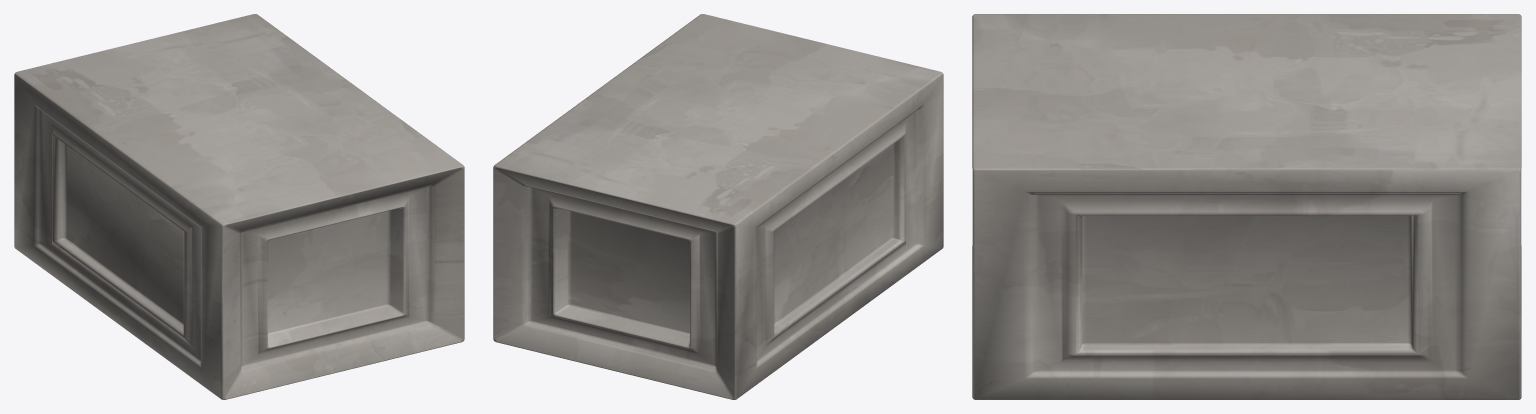
The model's file is Goddess Platform.fbx.
The picture shows the model from 3 angles, left to right: view 1: azimuth 30°, elevation 25°; view 2: azimuth 150°, elevation 25°; view 3: azimuth 270°, elevation 25°; orthographic projection. The views are drawn at different scales.
Parts seen in each view (by area): view 1: Goddess Platform_Baked; view 2: Goddess Platform_Baked; view 3: Goddess Platform_Baked.
Boxes of the visible parts, x1,y1,x2,y2 form: Goddess Platform_Baked: [14, 14, 464, 399]; Goddess Platform_Baked: [493, 14, 943, 399]; Goddess Platform_Baked: [972, 14, 1521, 399].
Bounding box in the file's own units: 128 × 88.96 × 191.
Materials: 1 (1 with a texture image).
